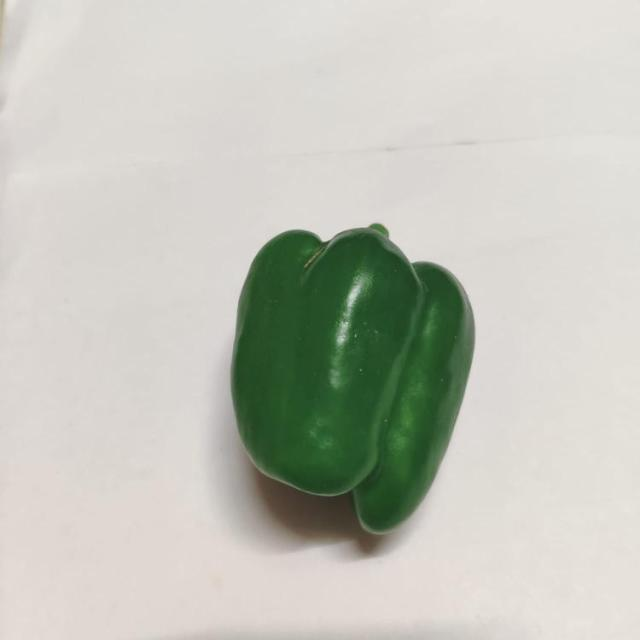Organik: (221, 200, 487, 564)
